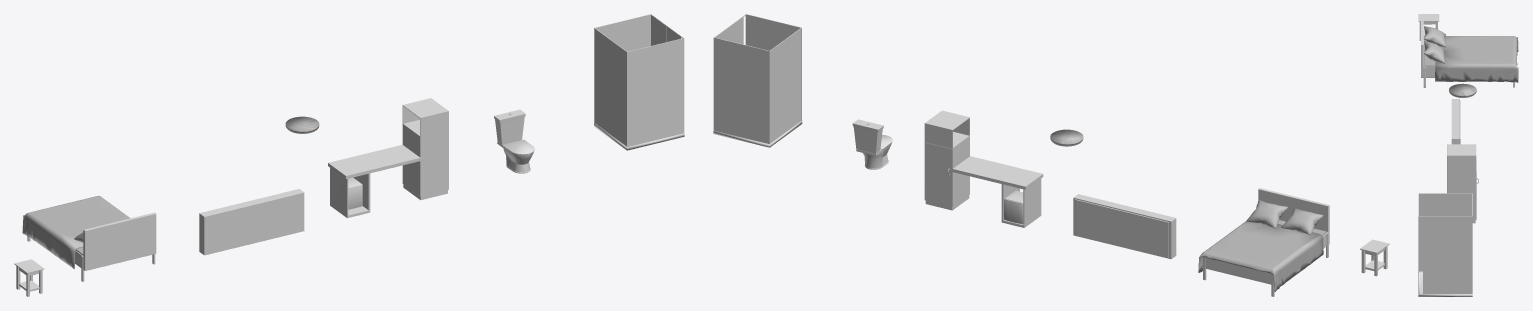
The model's file is CH_Room_Objects.fbx.
The picture shows the model from 3 angles, left to right: view 1: azimuth 30°, elevation 25°; view 2: azimuth 150°, elevation 25°; view 3: azimuth 270°, elevation 25°; orthographic projection. The views are drawn at different scales.
Parts seen in each view (by area): view 1: Cube.003, CH_WoodObject, Radiator, Blanket.001, Basebed, WC, NightStand, Ceiling_Light; view 2: Cube.003, CH_WoodObject, Blanket.001, Radiator, Basebed, WC, NightStand, Pillow, Pillow.001, Fridge, Ceiling_Light; view 3: Cube.003, Blanket.001, CH_WoodObject, Radiator, Pillow, Ceiling_Light, Pillow.001, Basebed, NightStand, Blanket.
Part boxes in pixels (bbox=[...]): Cube.003: bbox=[594, 14, 684, 150]; CH_WoodObject: bbox=[328, 98, 448, 218]; Radiator: bbox=[199, 189, 304, 255]; Blanket.001: bbox=[22, 195, 129, 269]; Basebed: bbox=[75, 212, 156, 270]; WC: bbox=[494, 109, 534, 173]; NightStand: bbox=[14, 259, 44, 296]; Ceiling_Light: bbox=[285, 116, 319, 133]; Cube.003: bbox=[713, 14, 802, 147]; CH_WoodObject: bbox=[924, 110, 1043, 227]; Blanket.001: bbox=[1198, 221, 1323, 292]; Radiator: bbox=[1073, 194, 1176, 259]; Basebed: bbox=[1205, 188, 1329, 284]; WC: bbox=[852, 119, 892, 169]; NightStand: bbox=[1360, 239, 1389, 276]; Pillow: bbox=[1246, 200, 1287, 228]; Pillow.001: bbox=[1281, 208, 1323, 235]; Fridge: bbox=[1004, 190, 1023, 224]; Ceiling_Light: bbox=[1050, 129, 1083, 146]; Cube.003: bbox=[1418, 193, 1472, 296]; Blanket.001: bbox=[1435, 36, 1518, 82]; CH_WoodObject: bbox=[1447, 144, 1478, 223]; Radiator: bbox=[1451, 99, 1460, 144]; Pillow: bbox=[1424, 41, 1445, 63]; Ceiling_Light: bbox=[1449, 83, 1476, 97]; Pillow.001: bbox=[1423, 26, 1445, 47]; Basebed: bbox=[1421, 16, 1435, 77]; NightStand: bbox=[1418, 14, 1439, 40]; Blanket: bbox=[1424, 40, 1435, 66].
Bounding box in the file's own units: 1089 × 190 × 176.
